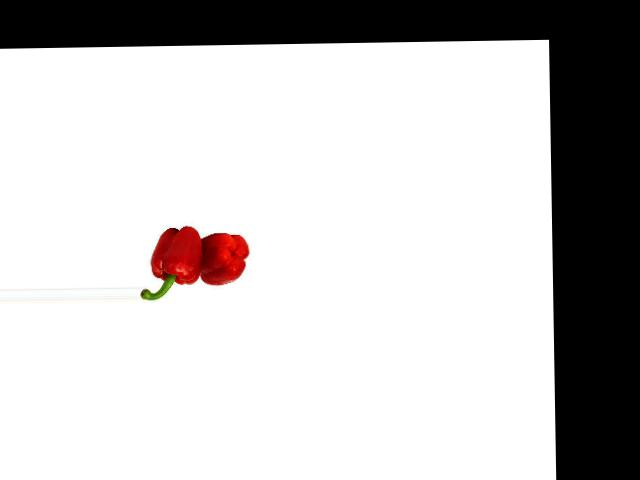bell_pepper: (199, 229, 249, 288)
